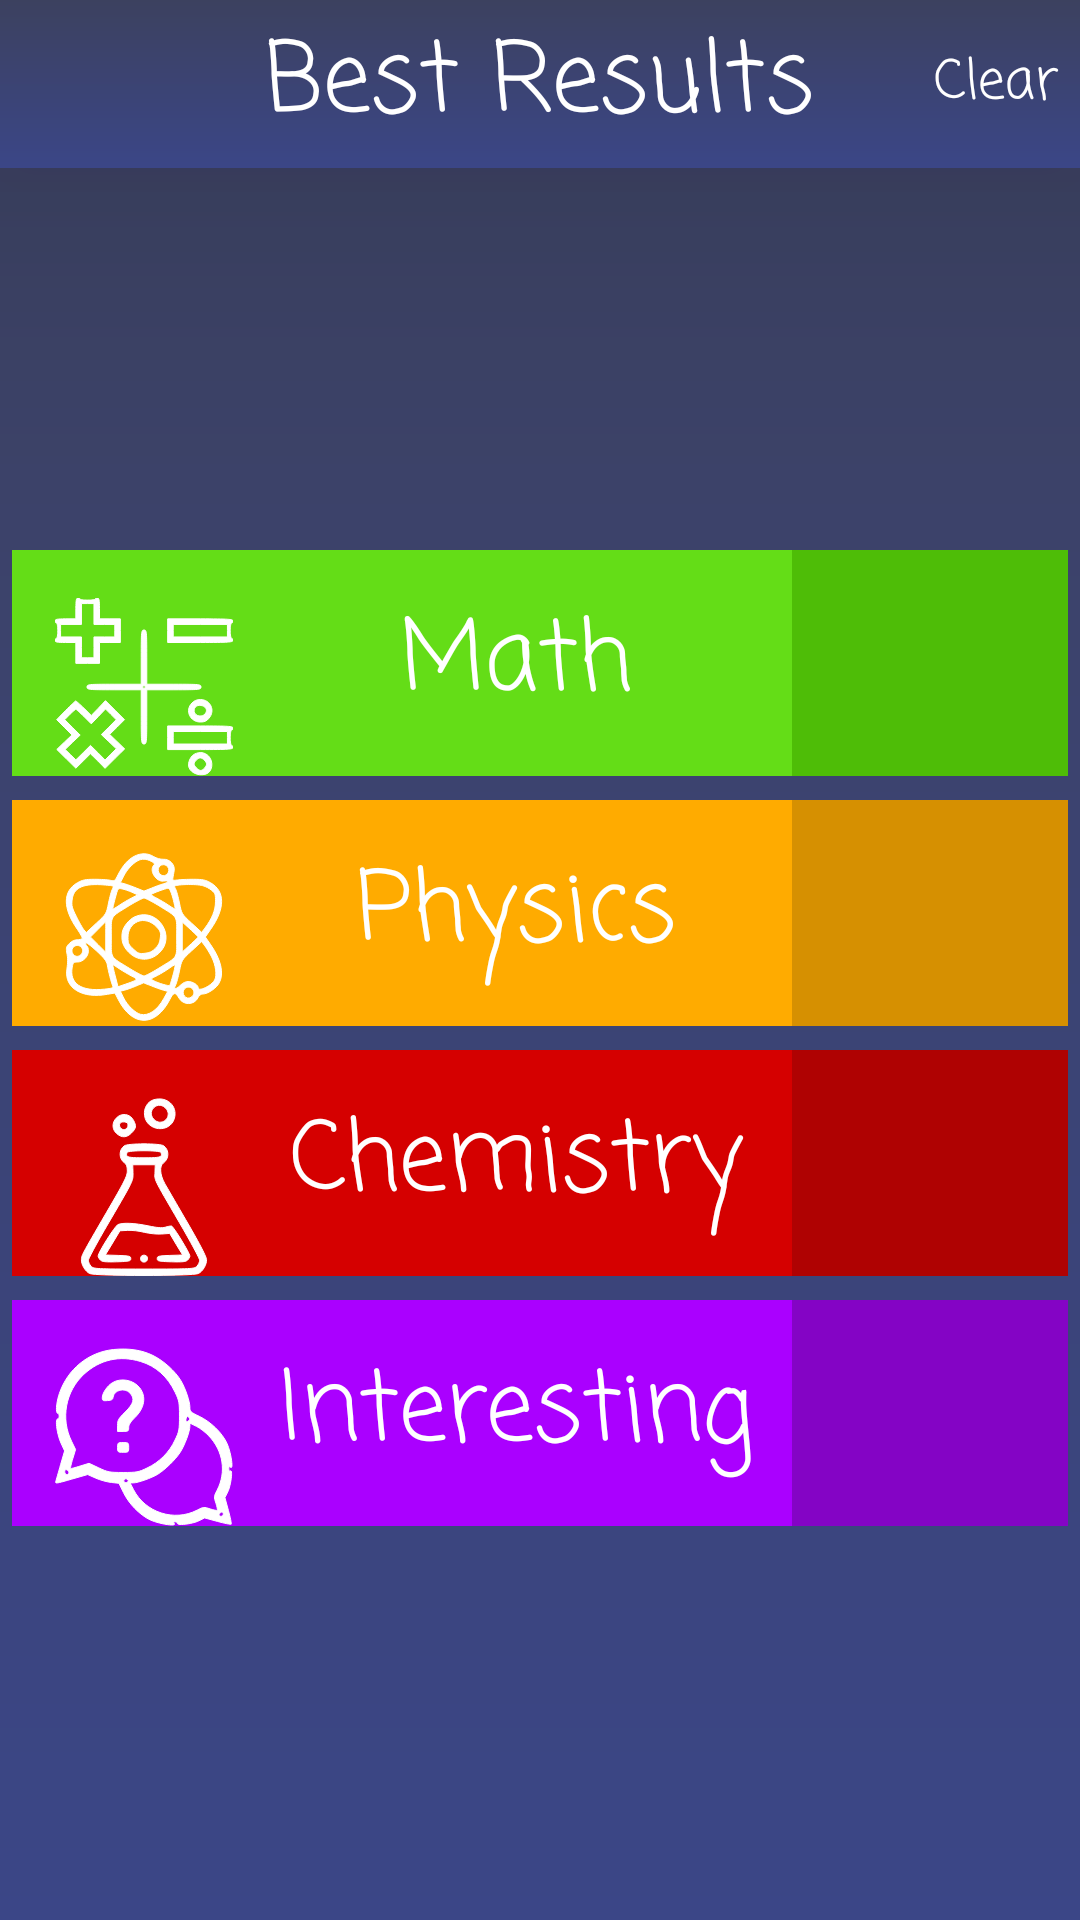

Icon click points for this 1080*1920 phone screenshot, format (x,y):
quize: (144,1437)
